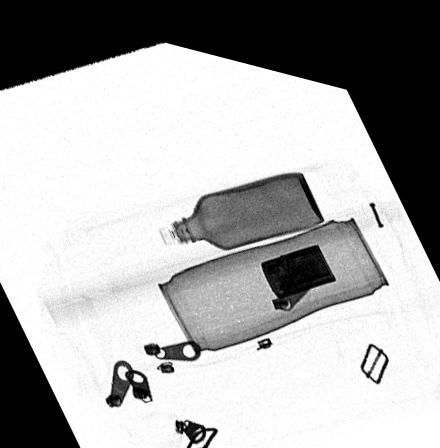Lighter: (258, 227, 338, 285)
